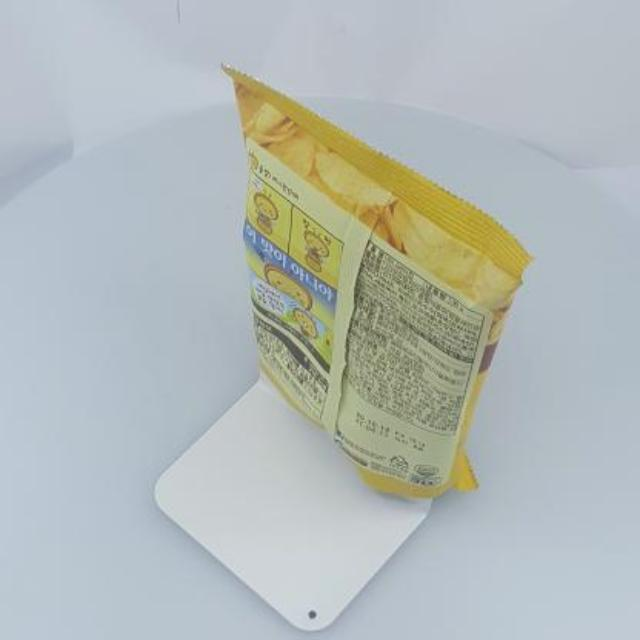snack_bag: (211, 47, 544, 527)
